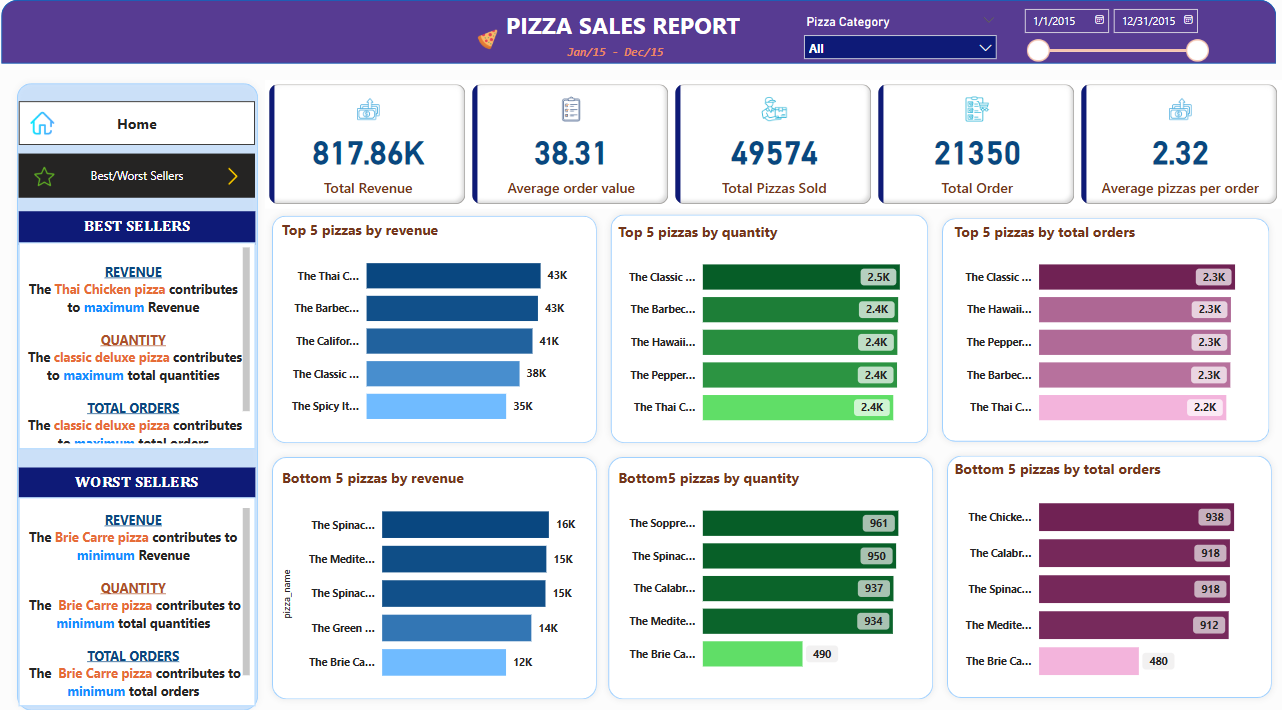

What the dashboard file says about the page in this screenshot:
{"tool":"powerbi","page":{"name":"Best/Worst Sellers","canvas":[1500,820],"ordinal":1},"visuals":[{"type":"cardVisual","fields":{"Data":["pizza_sales.Total Revenue","pizza_sales.Average order value","pizza_sales.Total Pizzas Sold","pizza_sales.Total Order","pizza_sales.Average pizzas per order"]},"box":[314.3,91.4,1165.7,147.1],"z":0},{"type":"shape","box":[12.9,0,1457.1,72.9],"z":1000},{"type":"textbox","box":[577.1,5.7,292.9,47.1],"z":2000},{"type":"textbox","box":[654.3,44.3,138.6,28.6],"z":3000},{"type":"image","box":[549.4,28.2,37.6,32.9],"z":4000},{"type":"shape","box":[314.3,238.6,387.1,275.7],"z":5000},{"type":"shape","box":[22.9,87.1,291.4,732.9],"z":6000},{"type":"textbox","box":[32.9,241.4,270,38.6],"z":7000},{"type":"textbox","box":[32.9,277.1,270,235.7],"z":8000},{"type":"textbox","box":[32.9,534.3,270,34.3],"z":9000},{"type":"textbox","box":[32.9,568.6,270,238.6],"z":10000},{"type":"slicer","fields":{"Values":["pizza_sales.pizza_category"]},"box":[920,11.4,240,65.7],"z":11000},{"type":"slicer","fields":{"Values":["pizza_sales.order_date"]},"box":[1170,0,231.4,72.9],"z":12000},{"type":"shape","box":[701.4,237.1,378.6,277.1],"z":13000},{"type":"shape","box":[1080,241.4,390,271.4],"z":14000},{"type":"shape","box":[314.3,514.3,387.1,292.9],"z":15000},{"type":"shape","box":[1085.7,512.9,387.1,292.9],"z":16000},{"type":"shape","box":[698.6,514.3,387.1,292.9],"z":17000},{"type":"barChart","title":"Top 5 pizzas by revenue","fields":{"Y":["pizza_sales.Total Revenue"],"Category":["pizza_sales.pizza_name"]},"box":[328.6,251.4,357.1,248.6],"z":18000},{"type":"barChart","title":"Bottom 5 pizzas by revenue","fields":{"Y":["pizza_sales.Total Revenue"],"Category":["pizza_sales.pizza_name"]},"box":[328.6,534.3,357.1,260],"z":19000},{"type":"barChart","title":"Top 5 pizzas by quantity","fields":{"Category":["pizza_sales.pizza_name"],"Y":["pizza_sales.Total Pizzas Sold"]},"box":[712.9,252.9,357.1,248.6],"z":20000},{"type":"barChart","title":"Bottom5 pizzas by quantity","fields":{"Category":["pizza_sales.pizza_name"],"Y":["pizza_sales.Total Pizzas Sold"]},"box":[712.9,534.3,357.1,248.6],"z":21000},{"type":"barChart","title":"Top 5 pizzas by total orders","fields":{"Category":["pizza_sales.pizza_name"],"Y":["pizza_sales.Total Order"]},"box":[1097.1,252.9,357.1,248.6],"z":22000},{"type":"barChart","title":"Bottom 5 pizzas by total orders","fields":{"Category":["pizza_sales.pizza_name"],"Y":["pizza_sales.Total Order"]},"box":[1097.1,524.3,357.1,270],"z":23000},{"type":"pageNavigator","box":[32.9,115.7,270,50],"z":23001},{"type":"pageNavigator","box":[32.9,175.7,270,50],"z":23002},{"type":"image","box":[262.9,184.3,30,34.3],"z":23003},{"type":"image","box":[45.7,182.9,32.9,37.1],"z":23004},{"type":"image","box":[41.4,120,37.1,41.4],"z":23005}]}

Visuals, with their boxes in screenshot pixels (x1, y1, x2, y2), scaled from the page's 1500x820 canvas onto the 1282x710 screenshot:
cardVisual - pizza_sales.Total Revenue x pizza_sales.Average order value: x1=269 y1=79 x2=1265 y2=207
shape: x1=11 y1=0 x2=1256 y2=63
textbox: x1=493 y1=5 x2=744 y2=46
textbox: x1=559 y1=38 x2=678 y2=63
image: x1=470 y1=24 x2=502 y2=53
shape: x1=269 y1=207 x2=599 y2=445
shape: x1=20 y1=75 x2=269 y2=709
textbox: x1=28 y1=209 x2=259 y2=242
textbox: x1=28 y1=240 x2=259 y2=444
textbox: x1=28 y1=463 x2=259 y2=492
textbox: x1=28 y1=492 x2=259 y2=699
slicer - pizza_sales.pizza_category: x1=786 y1=10 x2=991 y2=67
slicer - pizza_sales.order_date: x1=1000 y1=0 x2=1198 y2=63
shape: x1=599 y1=205 x2=923 y2=445
shape: x1=923 y1=209 x2=1256 y2=444
shape: x1=269 y1=445 x2=599 y2=699
shape: x1=928 y1=444 x2=1259 y2=698
shape: x1=597 y1=445 x2=928 y2=699
"Top 5 pizzas by revenue" barChart: x1=281 y1=218 x2=586 y2=433
"Bottom 5 pizzas by revenue" barChart: x1=281 y1=463 x2=586 y2=688
"Top 5 pizzas by quantity" barChart: x1=609 y1=219 x2=914 y2=434
"Bottom5 pizzas by quantity" barChart: x1=609 y1=463 x2=914 y2=678
"Top 5 pizzas by total orders" barChart: x1=938 y1=219 x2=1243 y2=434
"Bottom 5 pizzas by total orders" barChart: x1=938 y1=454 x2=1243 y2=688
pageNavigator: x1=28 y1=100 x2=259 y2=143
pageNavigator: x1=28 y1=152 x2=259 y2=195
image: x1=225 y1=160 x2=250 y2=189
image: x1=39 y1=158 x2=67 y2=190
image: x1=35 y1=104 x2=67 y2=140
